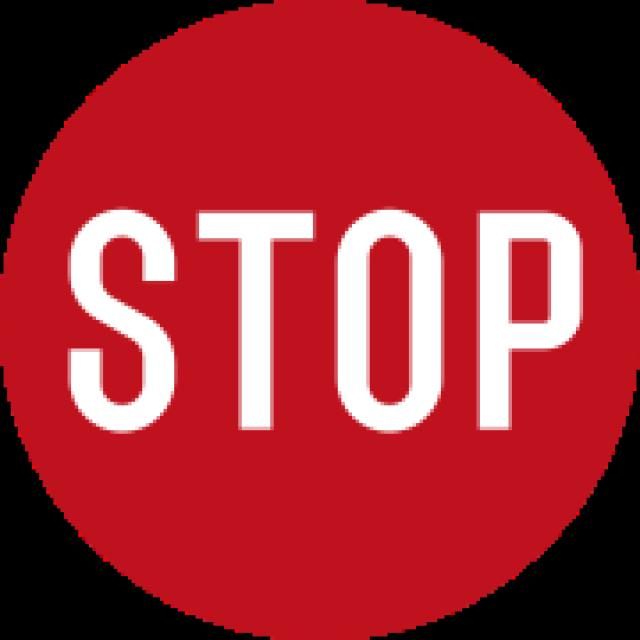Traffic sign: (28, 38, 618, 596)
